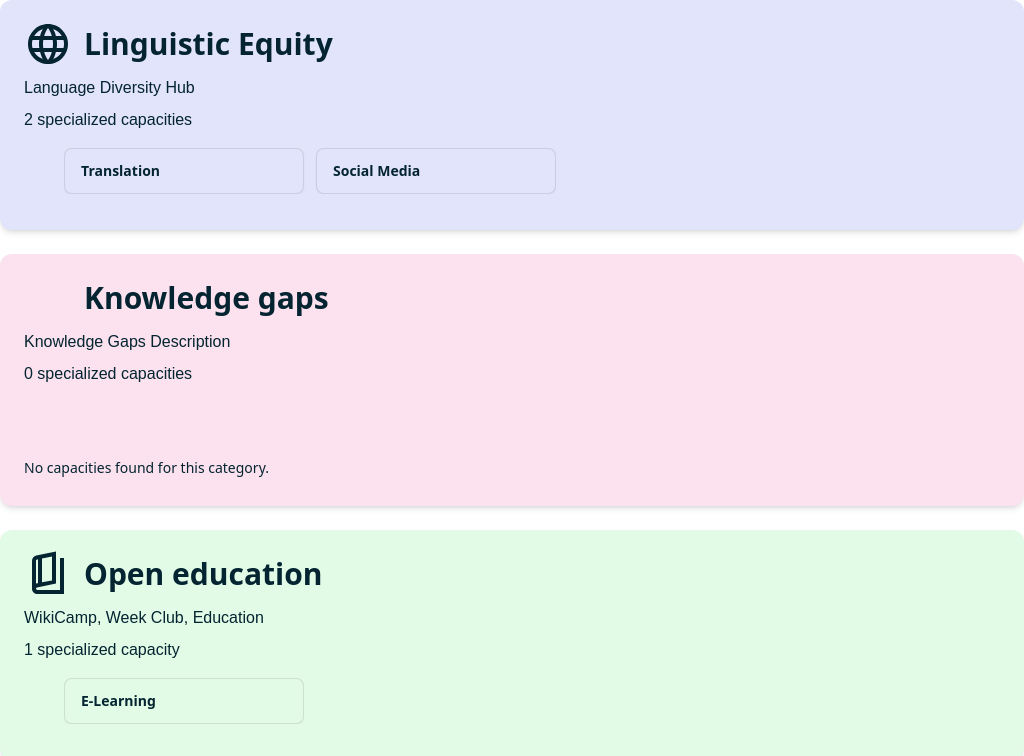
CapacityCategories › desktop layout (isMobile: false) › switches info panel when a different chip is clicked
Click the button "Translation": (184, 171) x1=64 y1=148 x2=304 y2=194
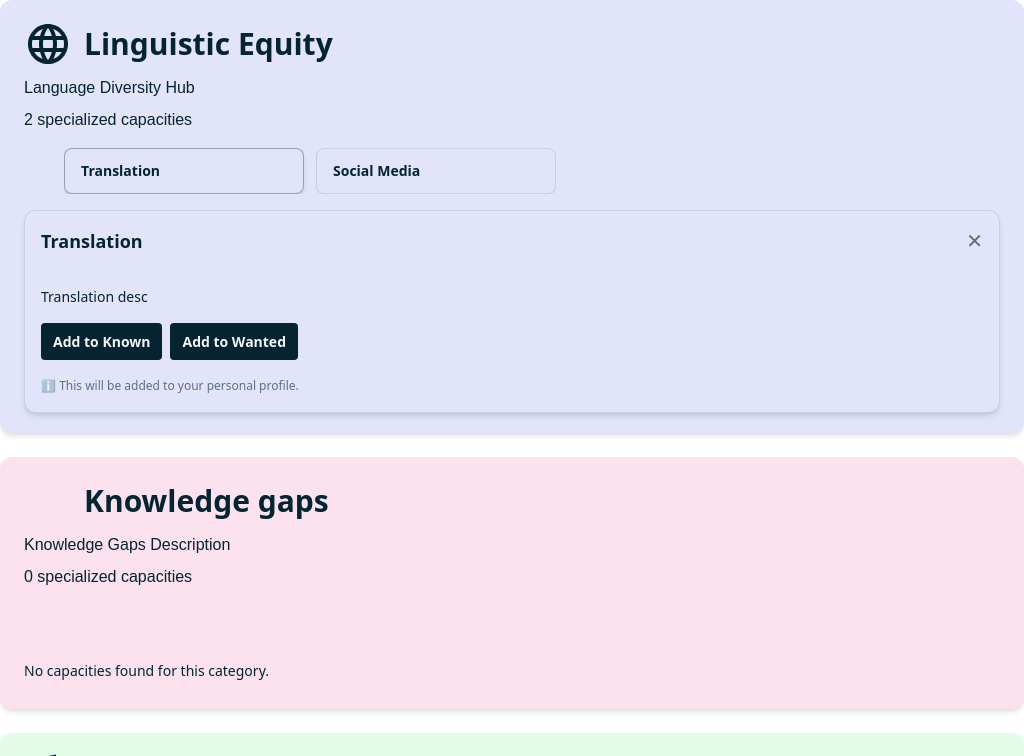
Result: the text "Translation desc" is shown at x1=41 y1=287 x2=148 y2=306
Click the button "Social Media": (436, 171) x1=316 y1=148 x2=556 y2=194
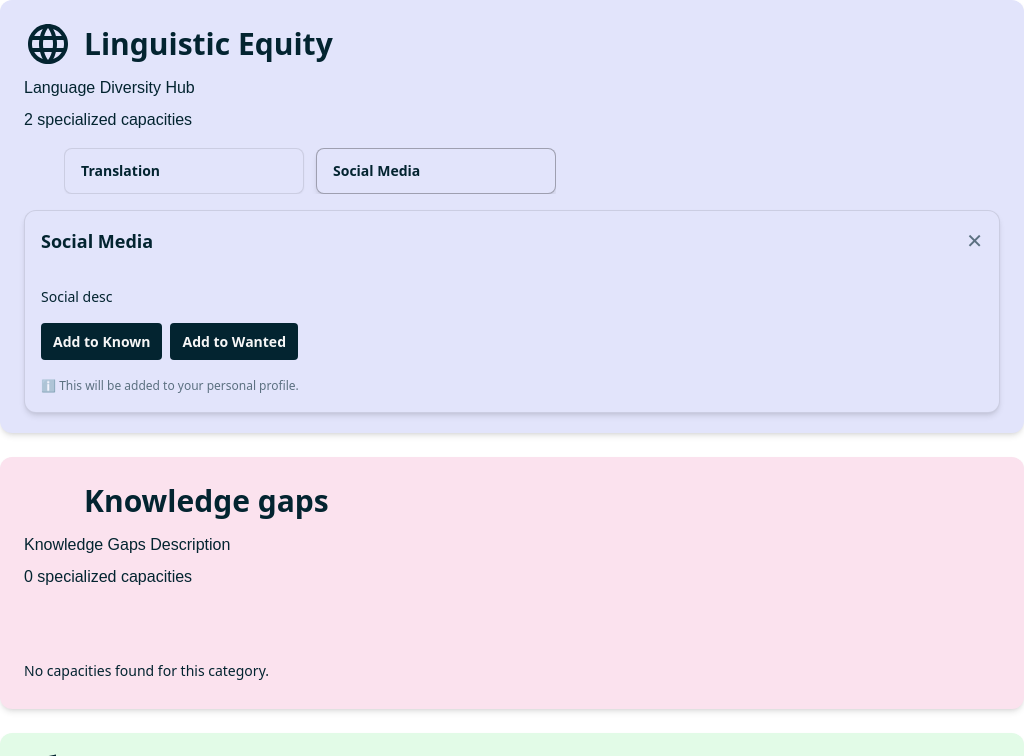
Result: the text "Translation desc" is gone
Result: the text "Social desc" is shown at x1=41 y1=287 x2=112 y2=306
